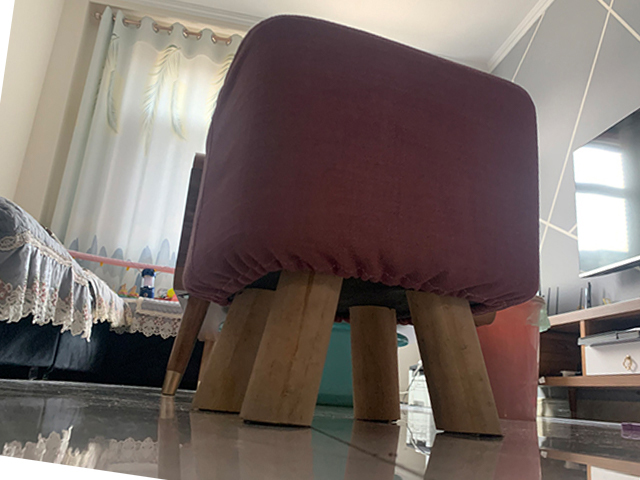cabinet: (539, 296, 640, 419)
curtain: (52, 6, 181, 290)
sofa: (1, 196, 184, 383)
stool: (183, 12, 540, 437)
trashcan: (477, 295, 546, 421)
